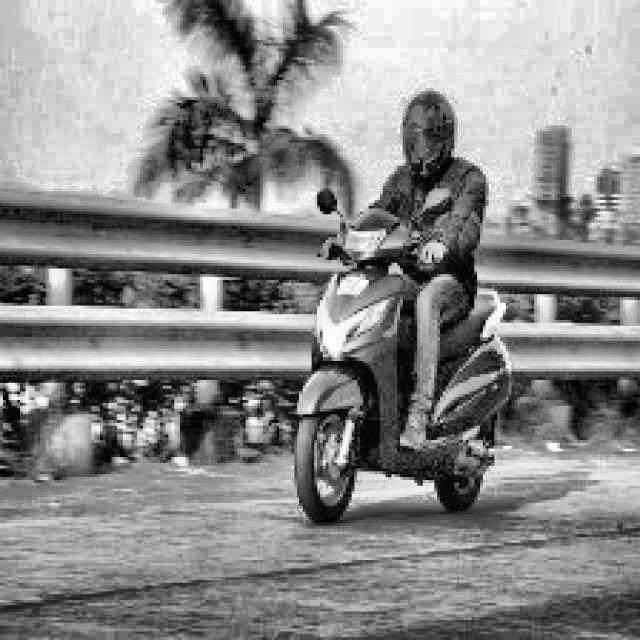motorcycle: (286, 187, 515, 542)
